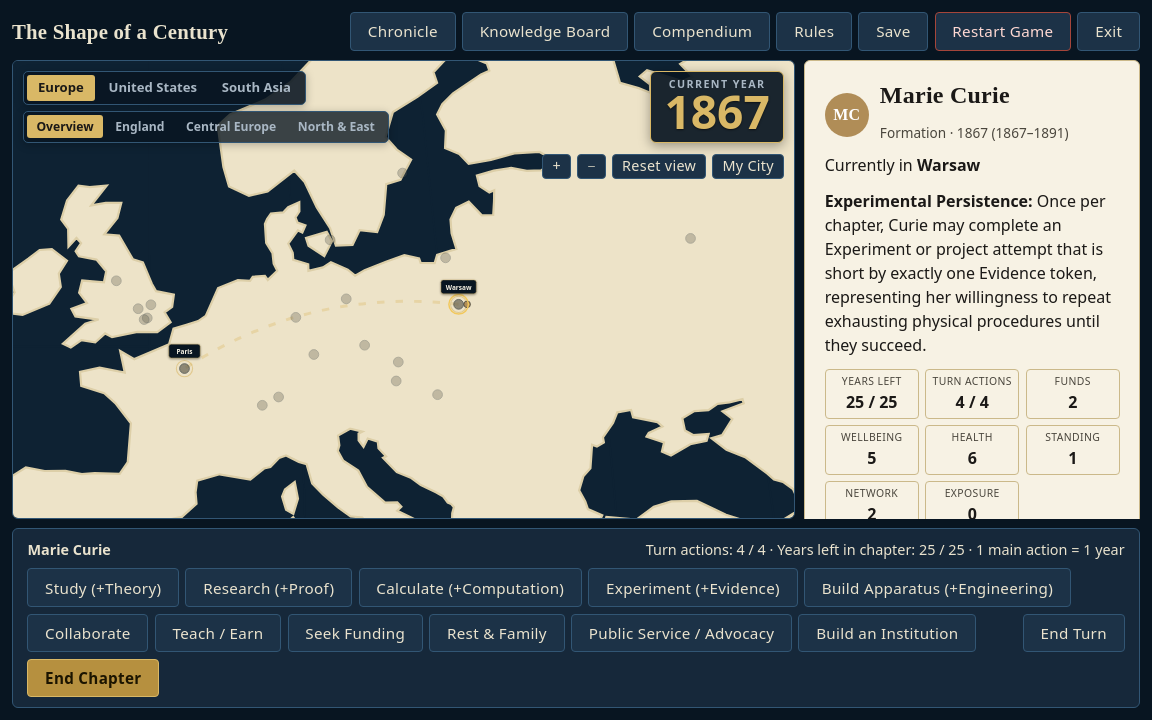
Scenario: board controls › requires confirmation before restarting the whole game
Later steps or results of the test are not shown.
Click the button with test id "restart-game-btn": (1003, 31) [935, 12, 1071, 51]
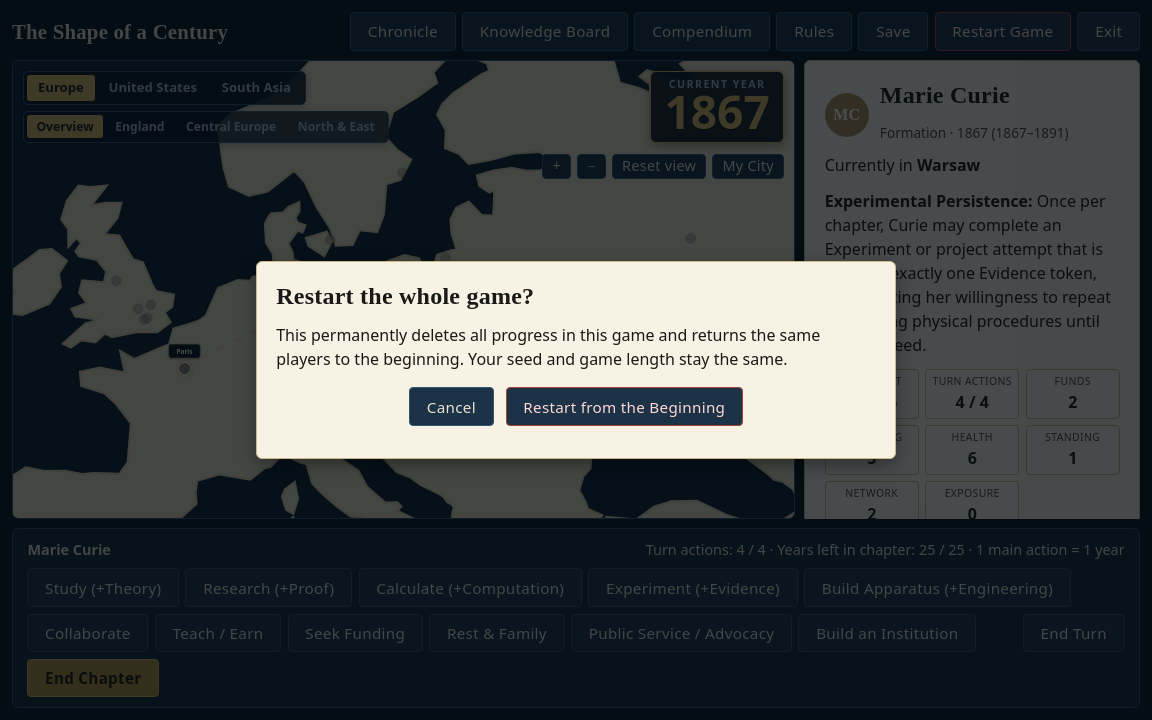
Now the dialog named "Confirm game restart" is shown
